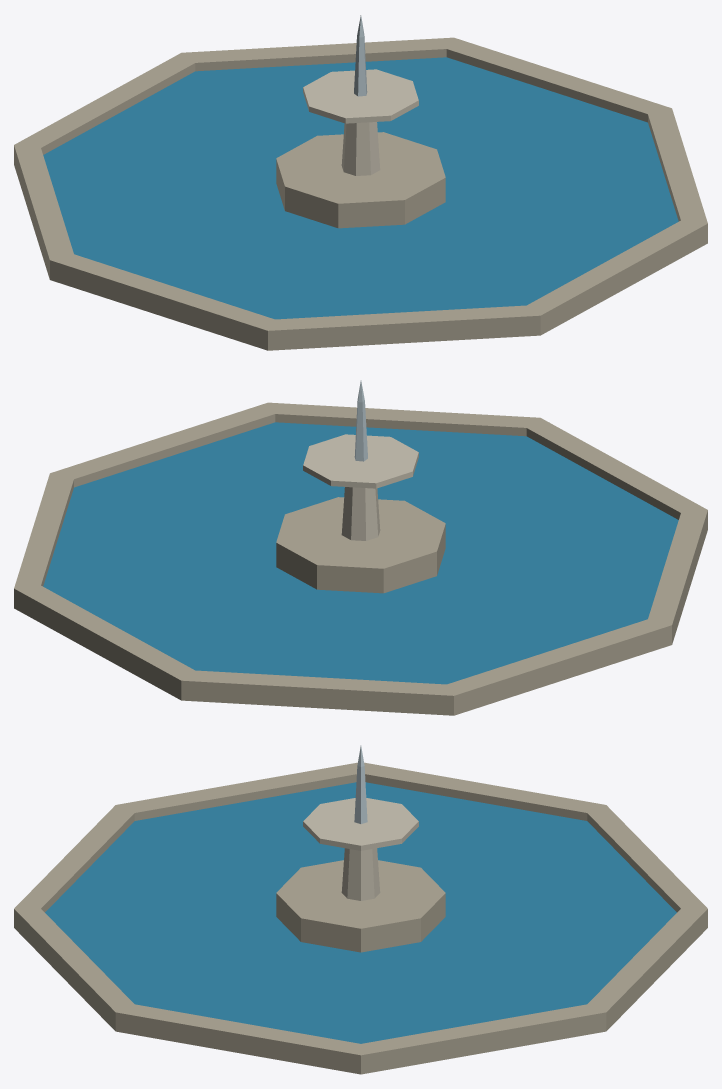
The model's file is air-mancur.glb.
3 views of the same model, one above another, from view 1: azimuth 30°, elevation 25°; view 2: azimuth 150°, elevation 25°; view 3: azimuth 270°, elevation 25° (orthographic). The views are drawn at different scales.
Visible parts, largest first — view 1: potongan_air-mancur; view 2: potongan_air-mancur; view 3: potongan_air-mancur.
Boxes of the visible parts, <box> form: potongan_air-mancur: <box>14,15,707,350</box>; potongan_air-mancur: <box>14,380,707,715</box>; potongan_air-mancur: <box>14,745,707,1074</box>.
Bounding box in the file's own units: 18 × 5.25 × 18.
